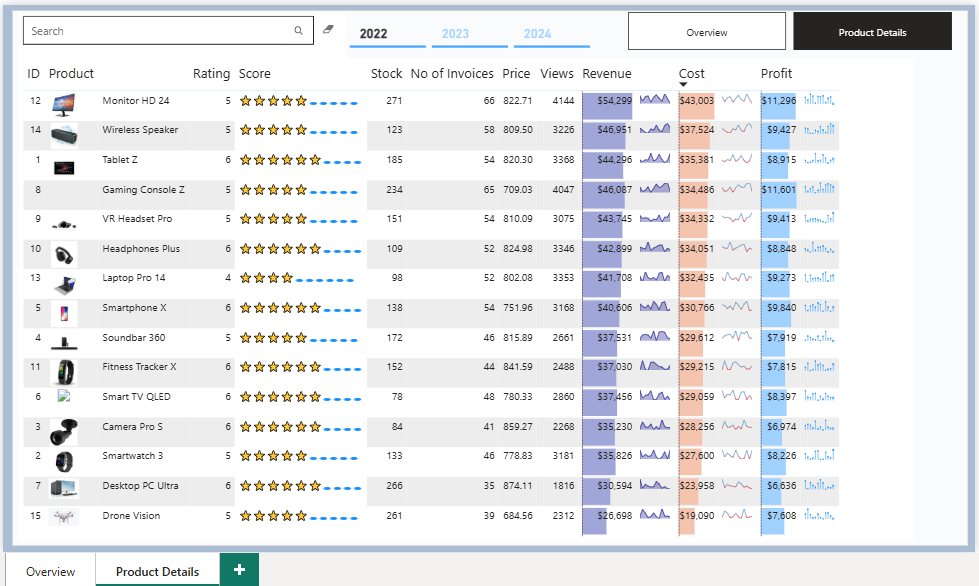

The dashboard page shown, as its layout file describes it:
{"tool":"powerbi","page":{"name":"Product Details","canvas":[1280,720],"ordinal":1},"visuals":[{"type":"tableEx","fields":{"Values":["dimProduct.Product ID","dimProduct.Img","dimProduct.Product","All Measures.Avg Rating","All Measures.Score","dimProduct.Stock Quantity","All Measures.No of Invoices","Avg(factSalesData.Sales Amount (USD))","All Measures.Views","All Measures.Revenue","All Measures.Revenue Sparkline","All Measures.Cost"]},"box":[21.1,69.3,1178.5,636],"z":0},{"type":"pageNavigator","box":[821.9,9,427,50.2],"z":1000},{"type":"advancedSlicerVisual","fields":{"Values":["Calender.year"]},"box":[451.8,8.9,328.4,52.4],"z":2000},{"type":"textFilter25A4896A83E0487089E2B90C9AE57C8A","fields":{"field":["dimProduct.Product"]},"box":[21.1,9,431,60.3],"z":3000}]}

Visuals, with their boxes on the page's 1280x720 design canvas (x1, y1, x2, y2). These are canvas units, not pixel positions in the 979x586 screenshot, which may show the page scaled, cropped or inside an application window:
tableEx - dimProduct.Product ID x dimProduct.Img: 21:69:1200:705
pageNavigator: 822:9:1249:59
advancedSlicerVisual - Calender.year: 452:9:780:61
textFilter25A4896A83E0487089E2B90C9AE57C8A - dimProduct.Product: 21:9:452:69
